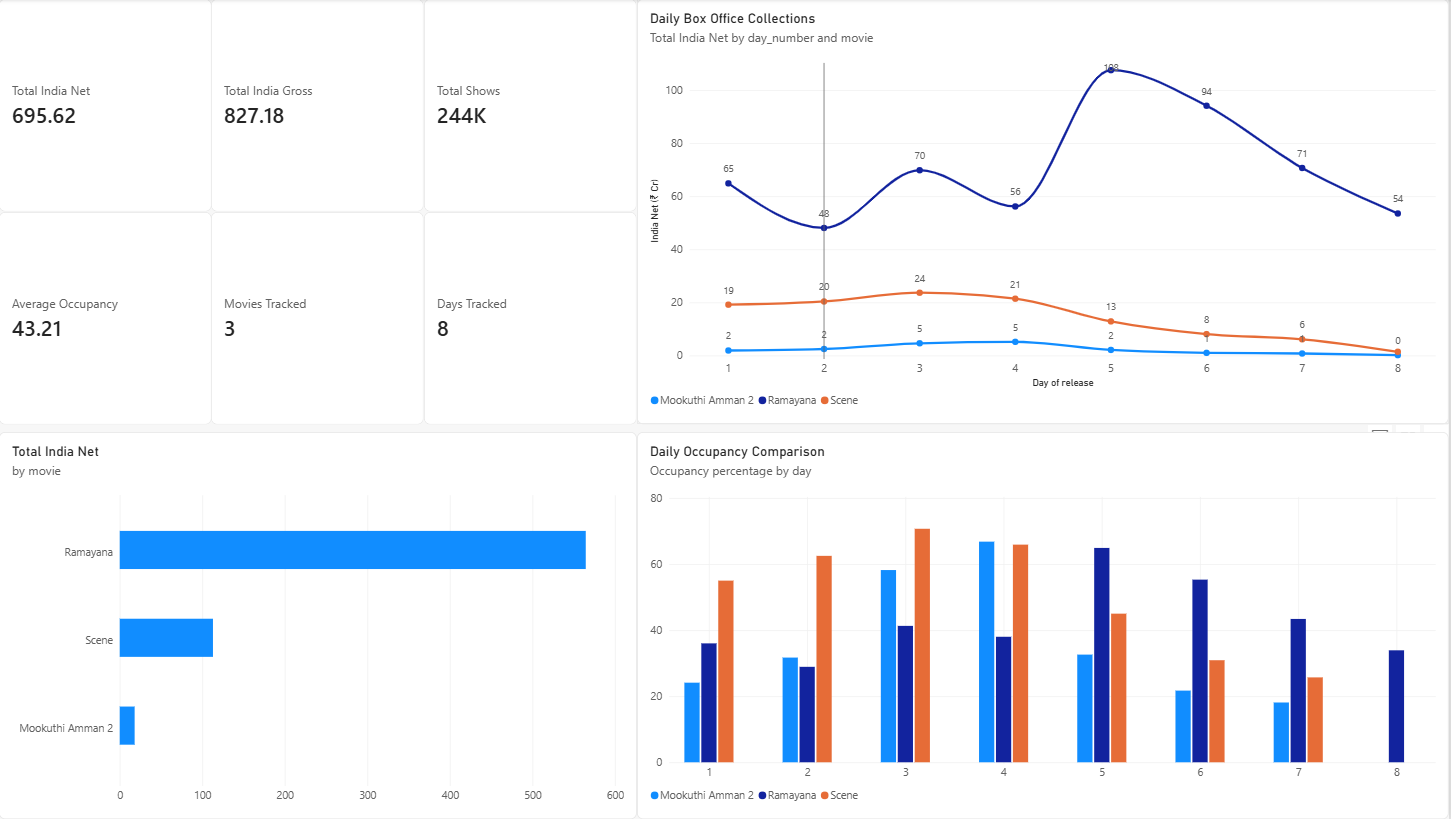

This screenshot's page, from the dashboard's own definition file:
{"tool":"powerbi","page":{"name":"Page 1","canvas":[1920,1080],"ordinal":0},"visuals":[{"type":"cardVisual","fields":{"Data":["BoxOffice.Total India Net"]},"box":[10,0,280,280],"z":0},{"type":"cardVisual","fields":{"Data":["BoxOffice.Total India Gross"]},"box":[290.3,0,280,280],"z":1},{"type":"cardVisual","fields":{"Data":["BoxOffice.Total Shows"]},"box":[570.5,0,280,280],"z":2},{"type":"cardVisual","fields":{"Data":["BoxOffice.Average Occupancy"]},"box":[10.2,280.1,280,280],"z":3},{"type":"cardVisual","fields":{"Data":["BoxOffice.Movie Count"]},"box":[290.3,280.1,280,280],"z":4},{"type":"cardVisual","fields":{"Data":["BoxOffice.Days Tracked"]},"box":[570.5,280.1,280,280],"z":5},{"type":"lineChart","title":"Daily Box Office Collections","fields":{"Category":["BoxOffice.day_number"],"Series":["BoxOffice.movie"],"Y":["BoxOffice.Total India Net"]},"box":[850.6,0,1069.4,560.2],"z":6},{"type":"clusteredBarChart","fields":{"Category":["BoxOffice.movie"],"Y":["BoxOffice.Total India Net"]},"box":[10.5,570.3,840.3,509.7],"z":7},{"type":"clusteredColumnChart","title":"Daily Occupancy Comparison","fields":{"Category":["BoxOffice.day_number"],"Series":["BoxOffice.movie"],"Y":["Sum(BoxOffice.occupancy_pct)"]},"box":[851,570,1069,510],"z":8}]}

Visuals, with their boxes in screenshot pixels (x1, y1, x2, y2), scaled from the page's 1920x1080 canvas onto the 1451x819 screenshot:
cardVisual - BoxOffice.Total India Net: 8,0,219,212
cardVisual - BoxOffice.Total India Gross: 219,0,431,212
cardVisual - BoxOffice.Total Shows: 431,0,643,212
cardVisual - BoxOffice.Average Occupancy: 8,212,219,425
cardVisual - BoxOffice.Movie Count: 219,212,431,425
cardVisual - BoxOffice.Days Tracked: 431,212,643,425
"Daily Box Office Collections" lineChart: 643,0,1450,425
clusteredBarChart - BoxOffice.movie x BoxOffice.Total India Net: 8,432,643,818
"Daily Occupancy Comparison" clusteredColumnChart: 643,432,1450,818
